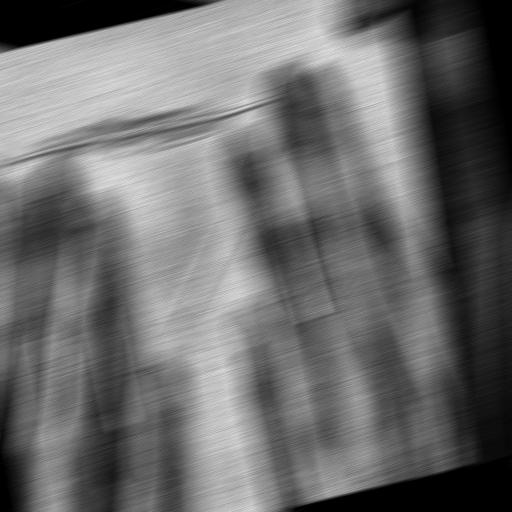envelop: (0, 79, 399, 512)
